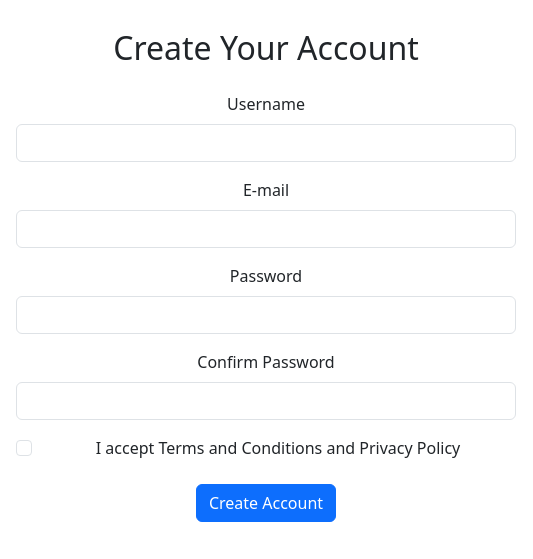
Test: RegisterPage › shows error if terms are not accepted
Type "testuser" into the field labelled "Username" at {"x": 266, "y": 143}, box [16, 124, 516, 162]
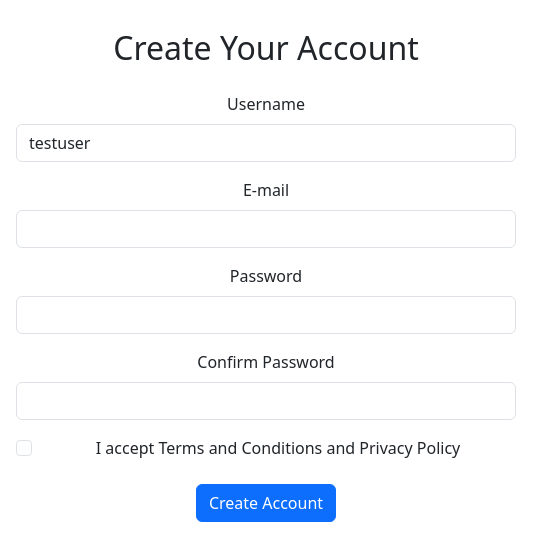
Type "test@example.com" into the field labelled "E-mail" at {"x": 266, "y": 229}, box [16, 210, 516, 248]
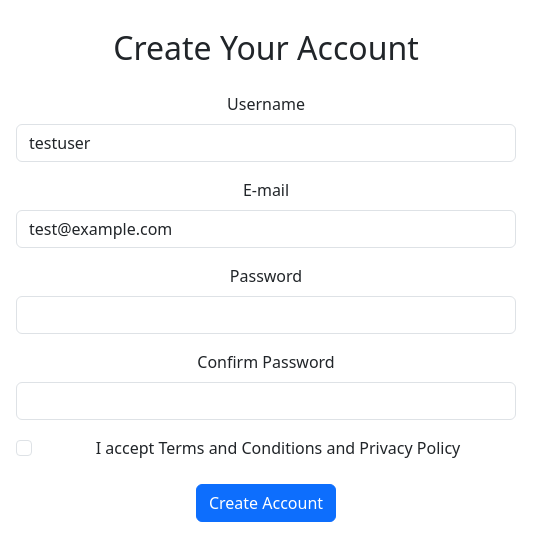
Type "123456" into the password field labelled "Password" at {"x": 266, "y": 315}, box [16, 296, 516, 334]
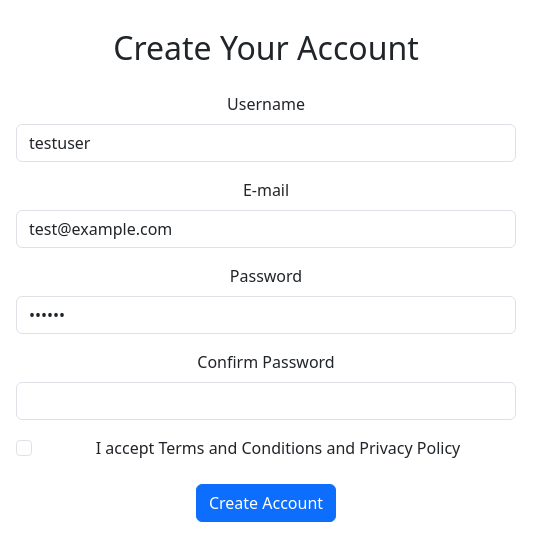
Type "123456" into the password field labelled "Confirm Password" at {"x": 266, "y": 401}, box [16, 382, 516, 420]
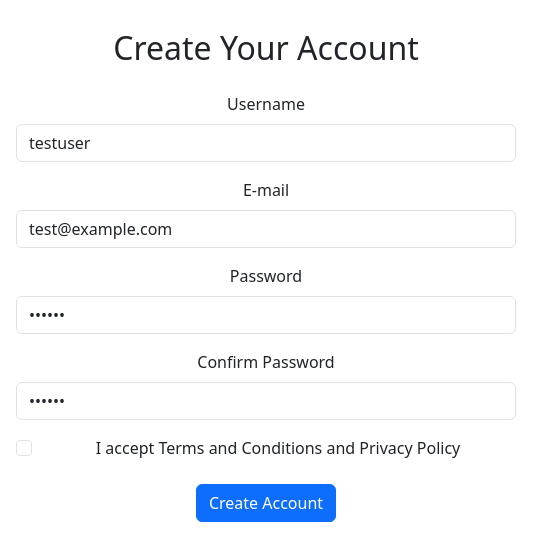
Click the button "Create Account" at {"x": 266, "y": 503}, box [196, 484, 336, 522]
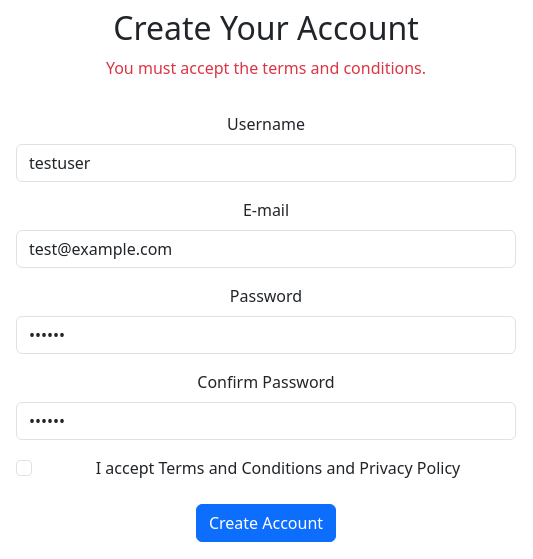
Result: the text "You must accept the terms and conditions." is shown at [106, 57, 426, 79]
